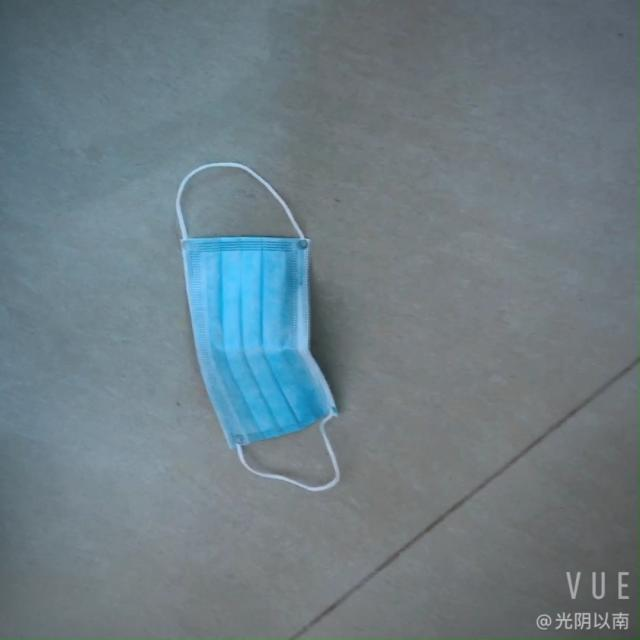face mask: (161, 152, 349, 492)
